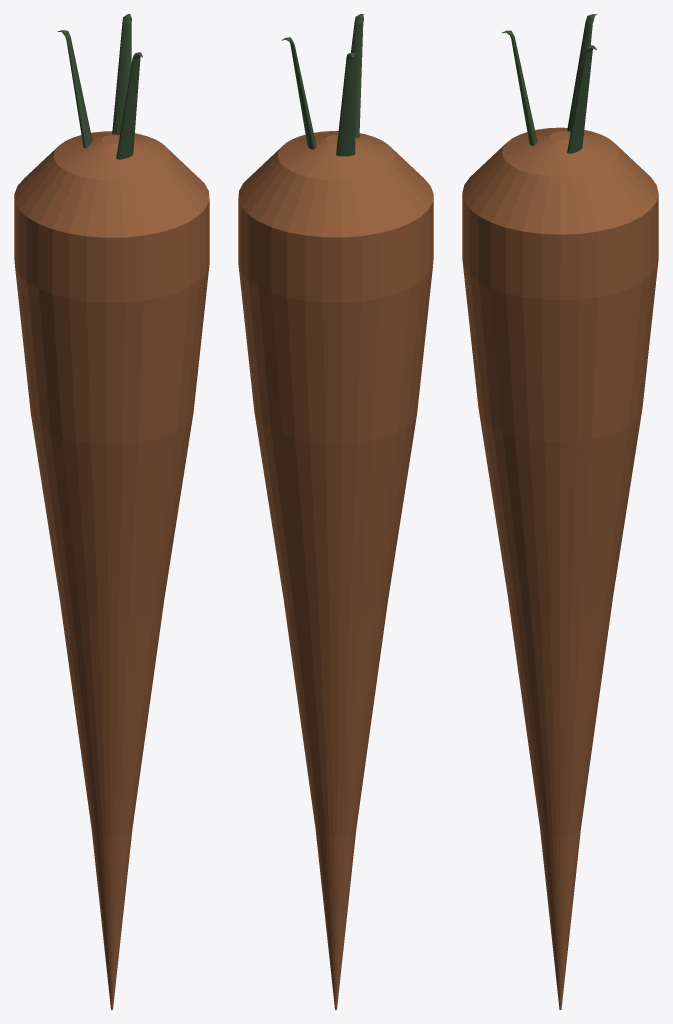
File: Carrot1.fbx
The picture shows the model from 3 angles, left to right: view 1: azimuth 30°, elevation 25°; view 2: azimuth 150°, elevation 25°; view 3: azimuth 270°, elevation 25°; orthographic projection.
Visible parts, largest first — view 1: Cylinder, Cylinder.003, Cylinder.002, Cylinder.001; view 2: Cylinder, Cylinder.001, Cylinder.003, Cylinder.002; view 3: Cylinder, Cylinder.002, Cylinder.003, Cylinder.001.
Boxes of the visible parts, x1,y1,x2,y2 form: Cylinder: (14,131,209,1009); Cylinder.003: (116,52,142,159); Cylinder.002: (112,14,131,134); Cylinder.001: (57,30,92,148); Cylinder: (238,131,433,1009); Cylinder.001: (336,52,355,156); Cylinder.003: (351,14,363,137); Cylinder.002: (281,37,316,149); Cylinder: (462,127,658,1009); Cylinder.002: (567,45,596,153); Cylinder.003: (502,30,537,145); Cylinder.001: (567,14,597,131).
Size of the model in its own units: 37.33 by 205 by 37.33.
